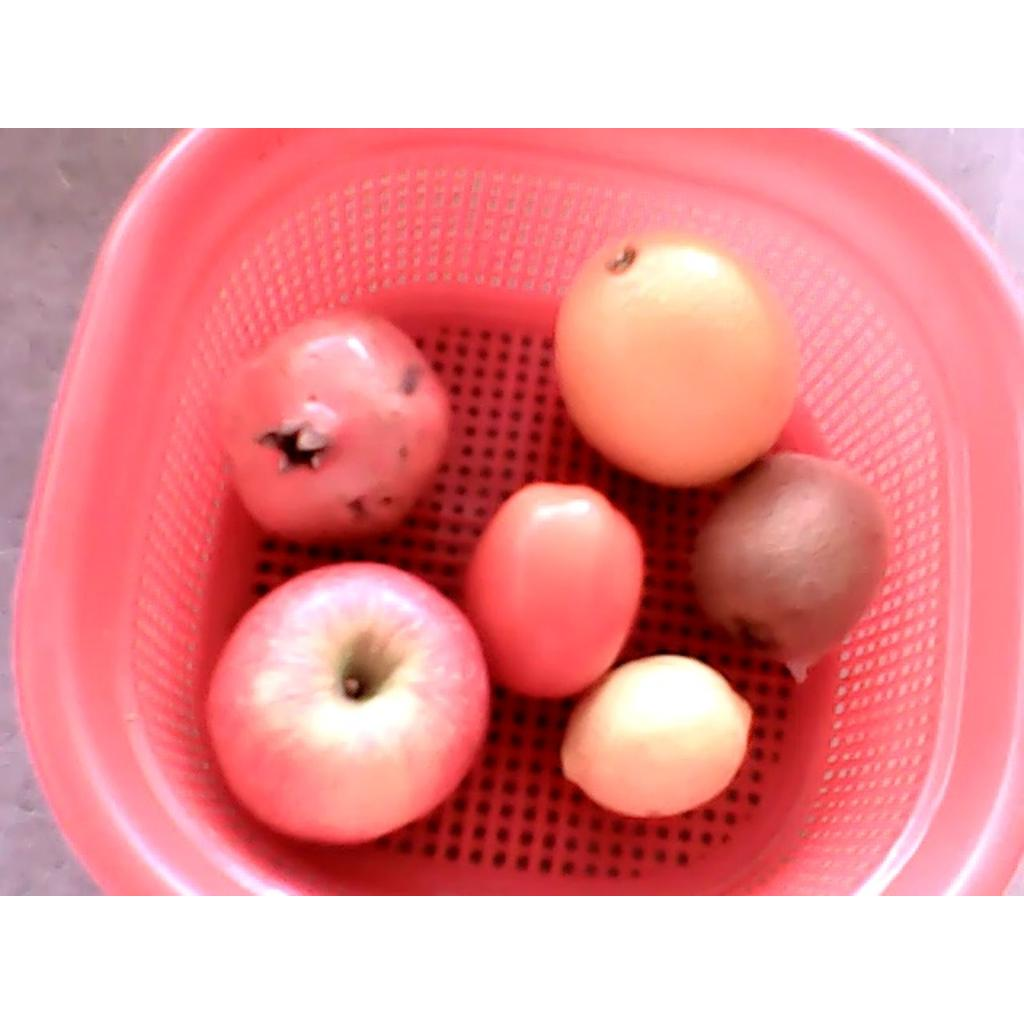apple: (207, 561, 491, 847)
kiwi: (696, 455, 885, 662)
lemon: (560, 654, 754, 819)
orange: (552, 228, 796, 488)
pomegranate: (208, 309, 457, 544)
tomato: (462, 479, 643, 697)
